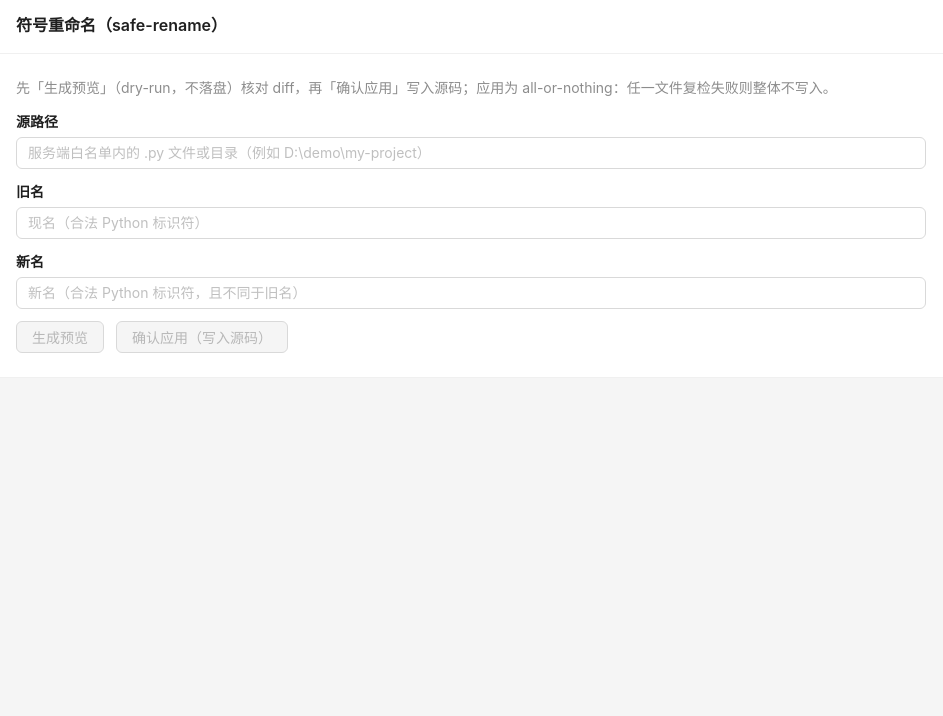
RenameTool › 生成预览：请求带 apply=false，渲染替换点/文件数与逐文件 unified diff
Type "D:\\demo\\my-project" into the field with placeholder "服务端白名单内的 .py 文件或目录（例如 D:\\demo\\my-project）". click: (463, 153)
box: [28, 142, 898, 164]
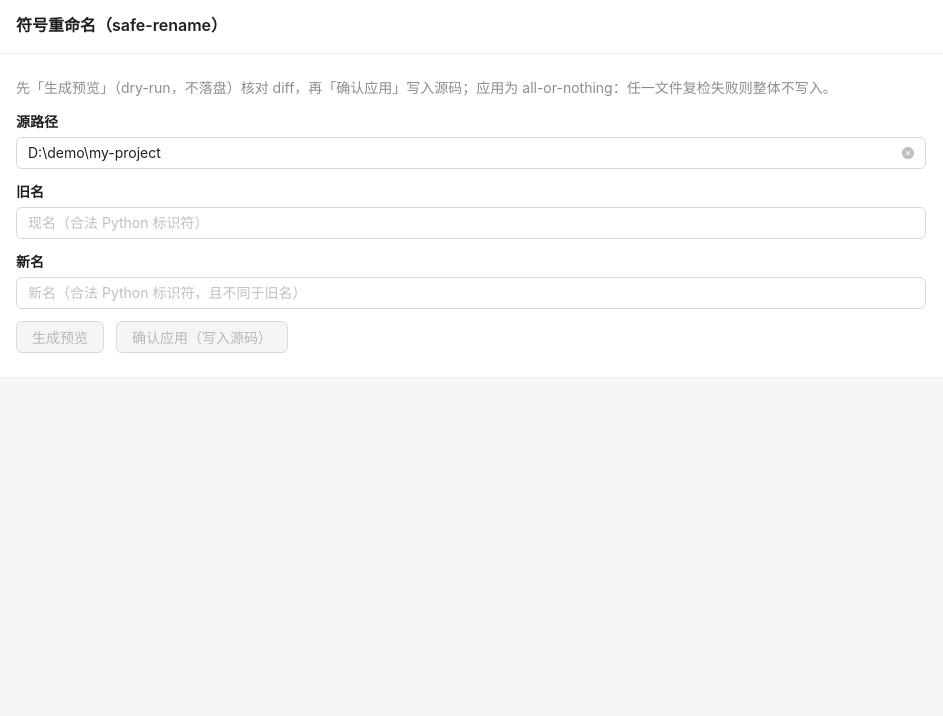
Type "old_name" into the field with placeholder "现名（合法 Python 标识符）". click: (463, 223)
box: [28, 212, 898, 234]
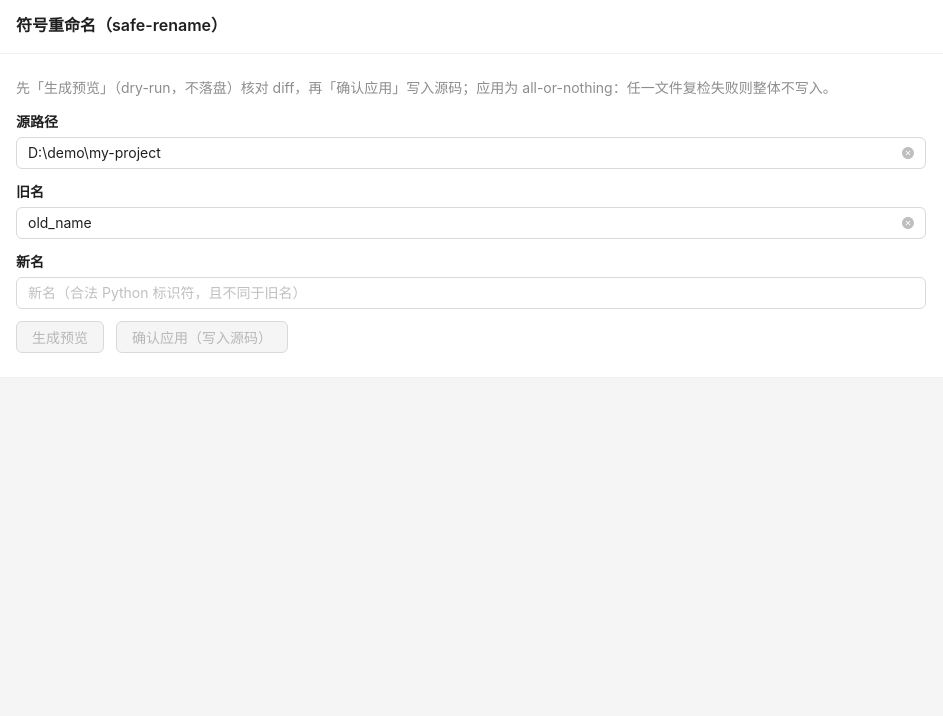
Type "new_name" into the field with placeholder "新名（合法 Python 标识符，且不同于旧名）". click: (463, 293)
box: [28, 282, 898, 304]
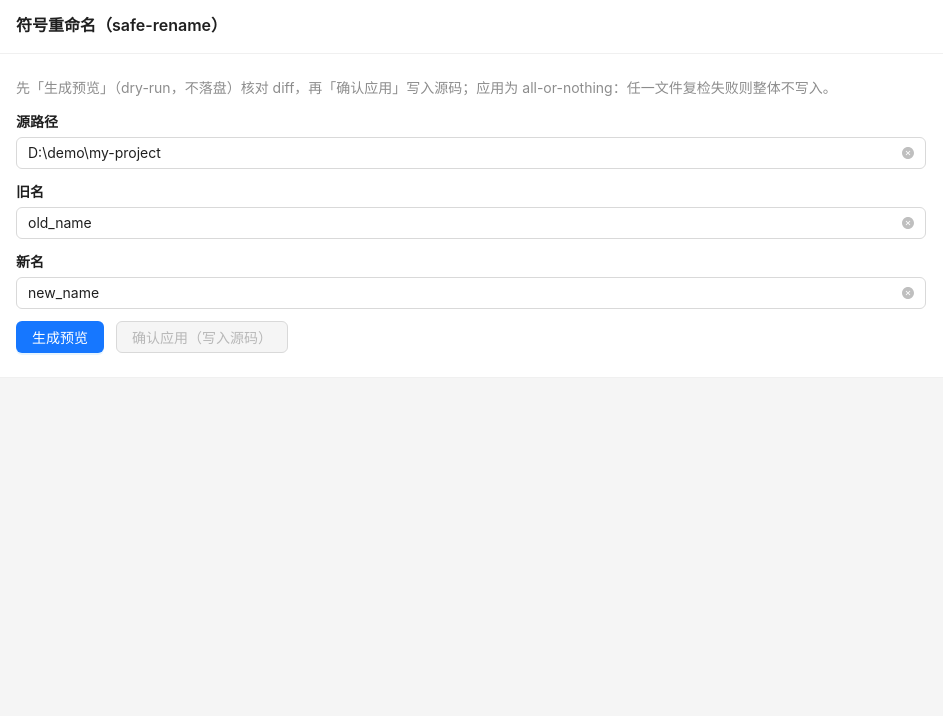
Click the button "生成预览". click: (60, 337)
box: [16, 321, 104, 353]
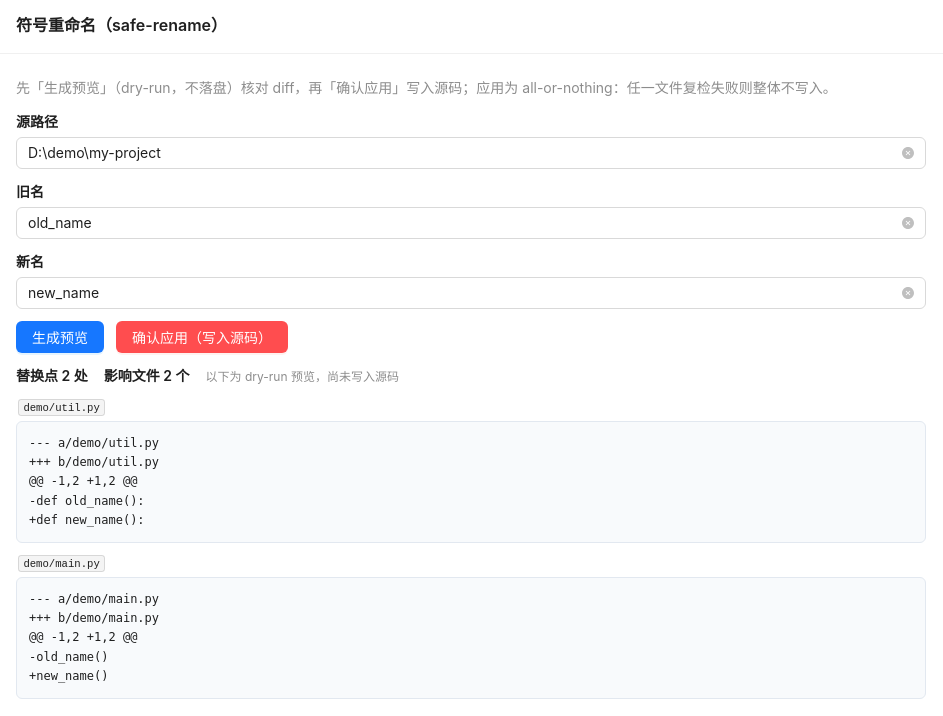
Expected: the element with test id "rename-preview" is shown, [16, 365, 926, 699]
Expected: the text "替换点 2 处" is shown, [16, 367, 88, 384]
Expected: the text "影响文件 2 个" is shown, [104, 367, 190, 384]
